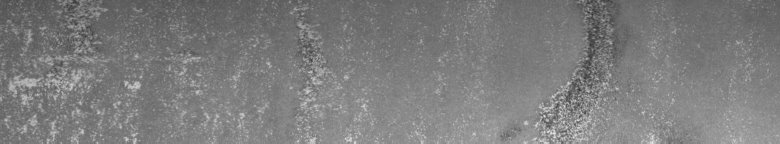hc: (525, 5, 612, 136)
